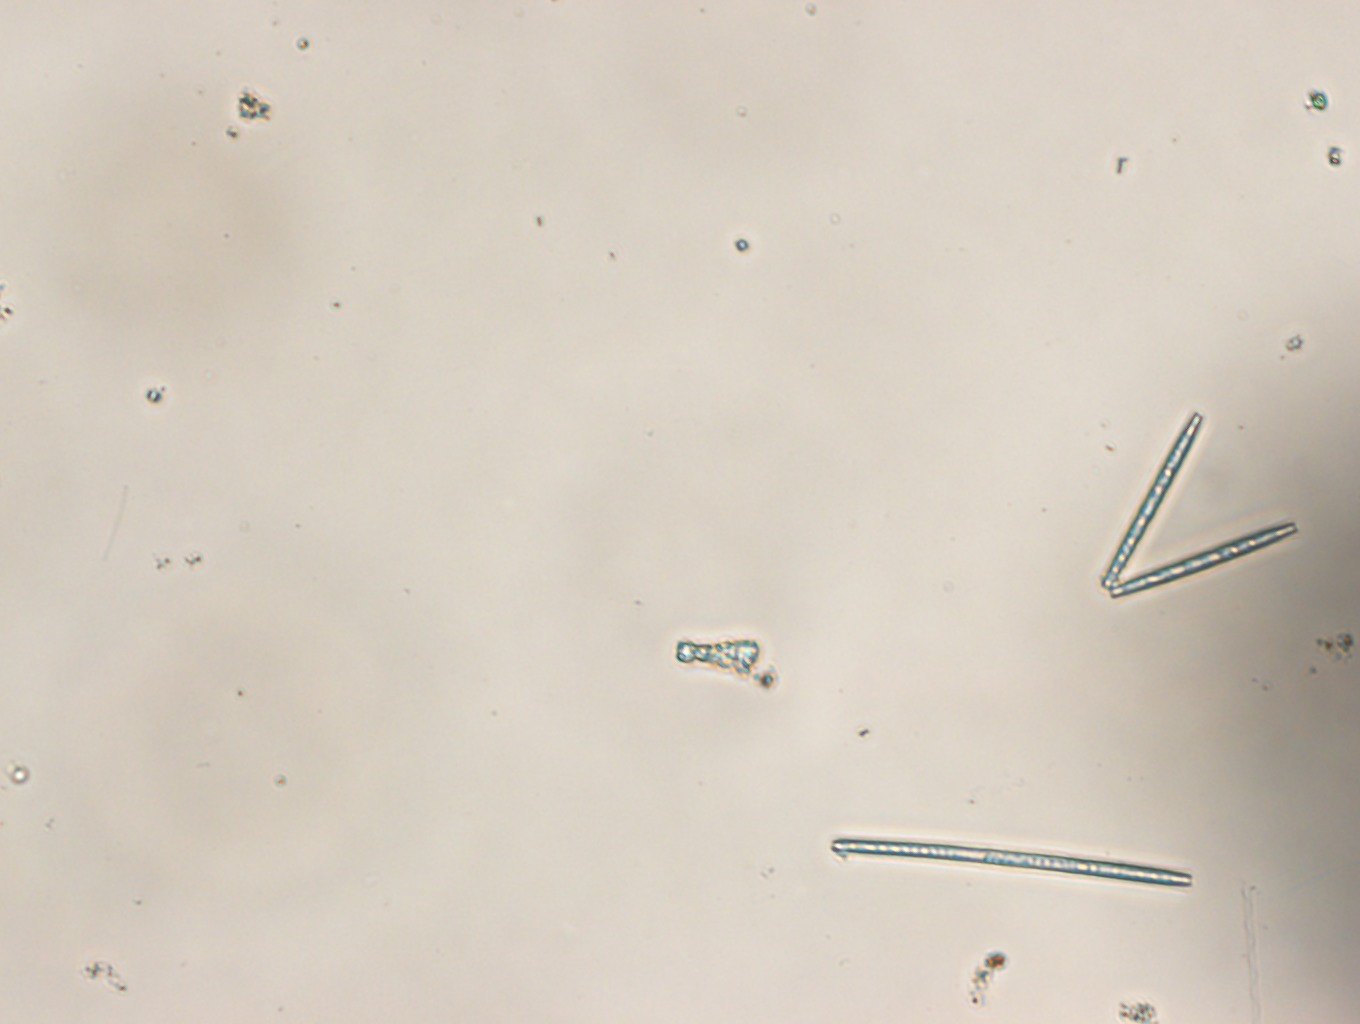thalassionema nitzschioides: (1102, 410, 1298, 600), (830, 839, 1192, 885)
